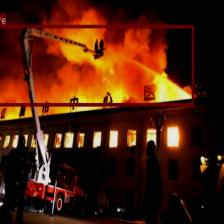fire: (0, 25, 194, 106)
